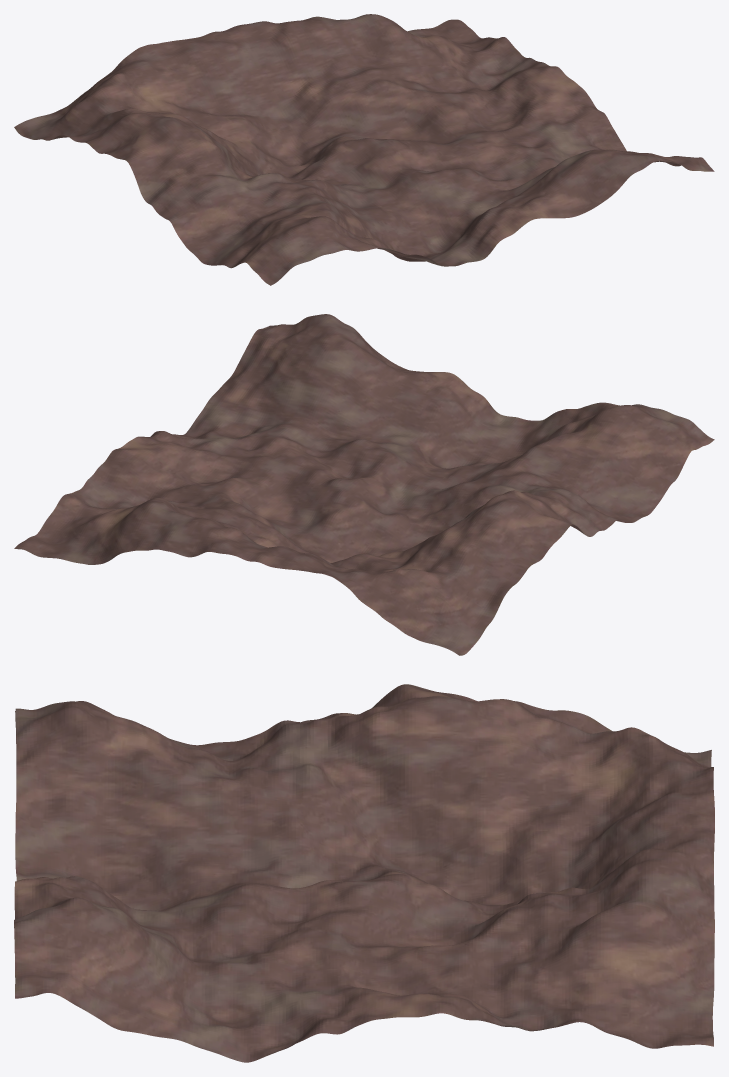
Rendered from terrain-transformed.glb.
3 views of the same model, one above another, from view 1: azimuth 30°, elevation 25°; view 2: azimuth 150°, elevation 25°; view 3: azimuth 270°, elevation 25° (orthographic). The views are drawn at different scales.
Visible parts, largest first — view 1: Cube; view 2: Cube; view 3: Cube.
Boxes of the visible parts, x1,y1,x2,y2 form: Cube: (14,14,714,285); Cube: (14,314,714,655); Cube: (14,684,714,1062).
Size of the model in its own units: 10.08 by 1.83 by 10.03.
1 material, 1 textured.
